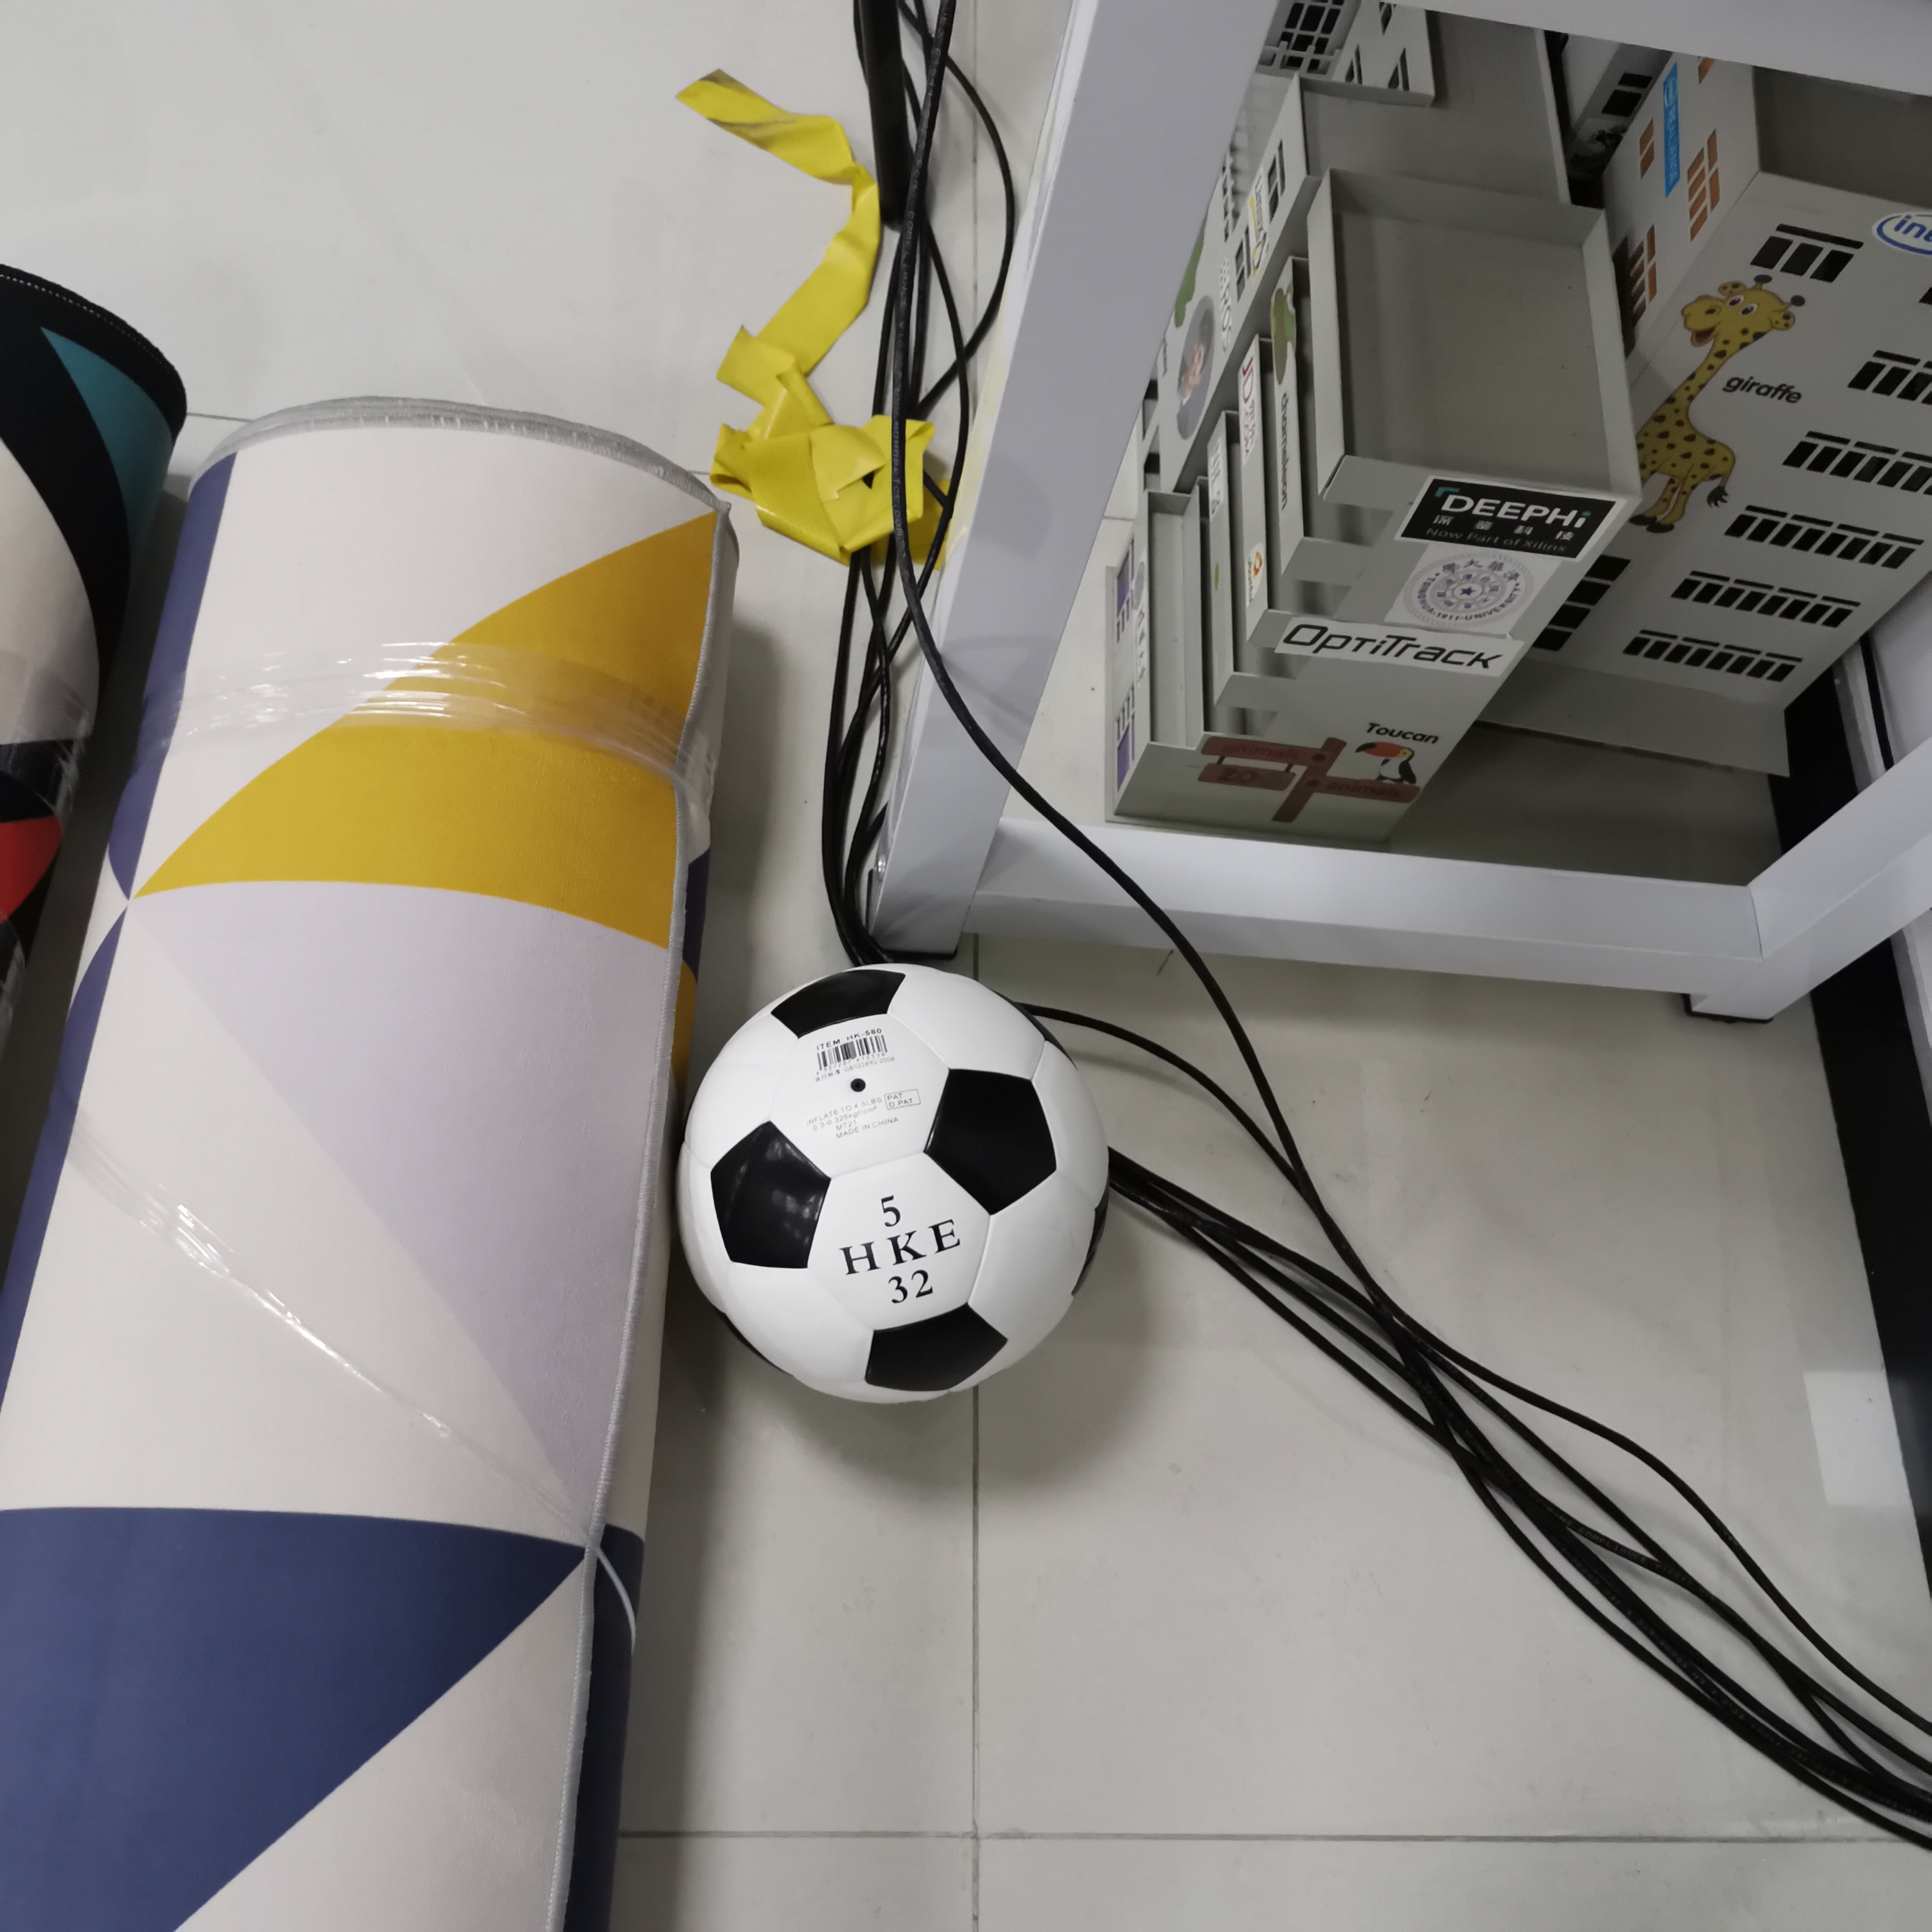football: (681, 978, 1116, 1403)
